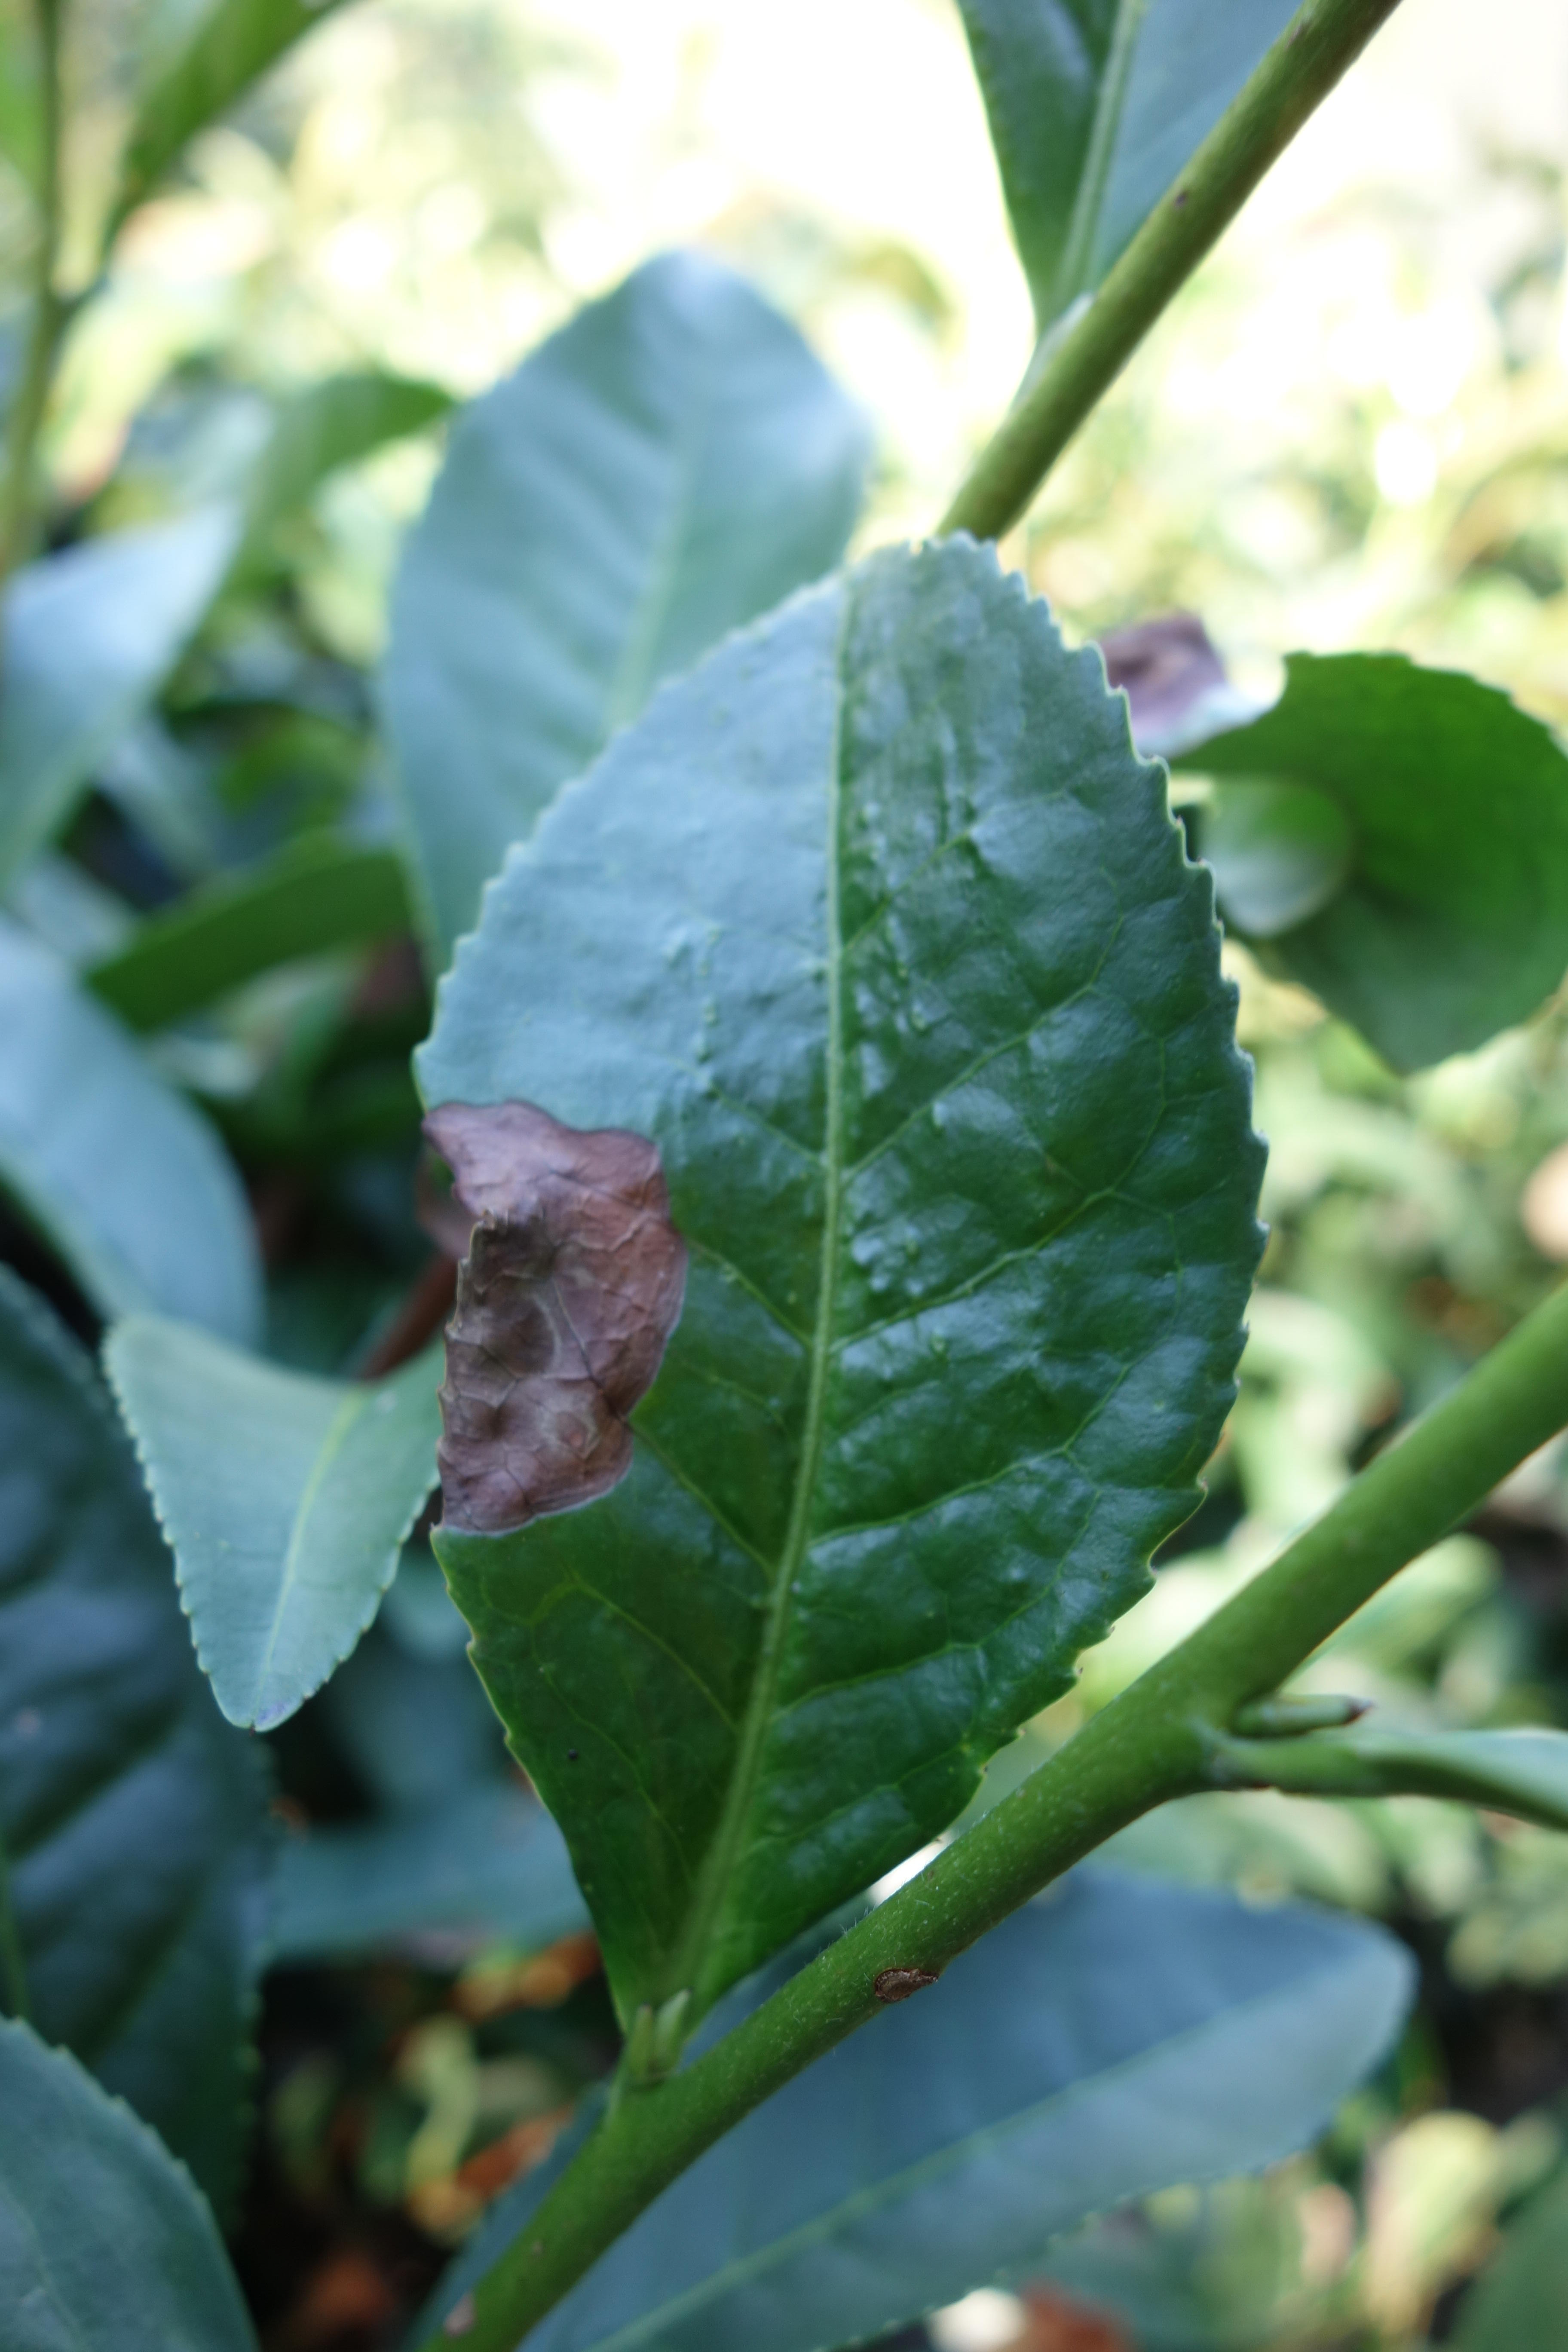tanju_high: (404, 534, 1269, 2058)
